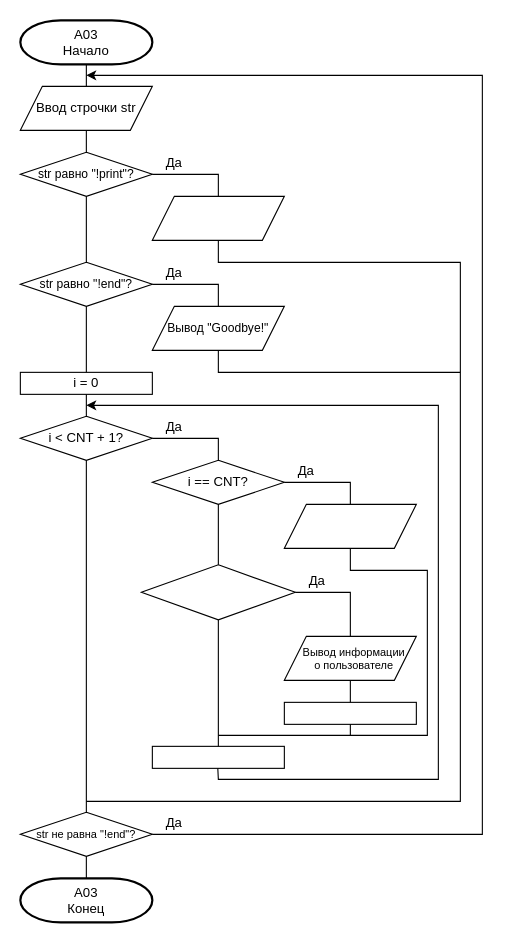
The diagram is 510 pixels wide and 942 high, and some of its shapes have lost their labels. Each missing label, with the box of its shape:
i = CNT + 1: (283, 701, 416, 724)
i = i + 1: (151, 745, 284, 768)
str равно i-ому имени в таблице?: (140, 564, 295, 620)
Вывод "Not found!": (283, 503, 416, 548)
Вывод таблички: (151, 195, 284, 240)
